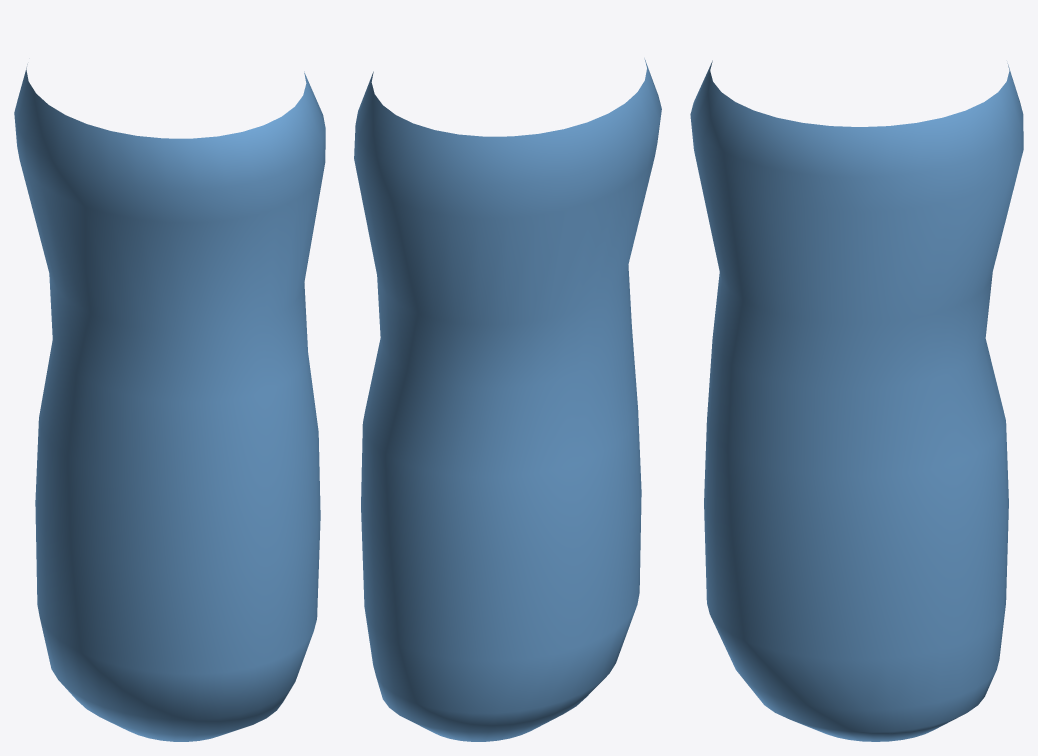
File: lhand.gltf
3 renders of one model, left to right at view 1: azimuth 30°, elevation 25°; view 2: azimuth 150°, elevation 25°; view 3: azimuth 270°, elevation 25°, orthographic.
Parts seen in each view (by area): view 1: Sphere.064; view 2: Sphere.064; view 3: Sphere.064.
Part boxes in pixels (x1,y1,x2,y2): Sphere.064: [14, 64, 325, 741]; Sphere.064: [354, 58, 661, 741]; Sphere.064: [690, 60, 1023, 741].
Bounding box in the file's own units: 0.0941 × 0.2258 × 0.105.
